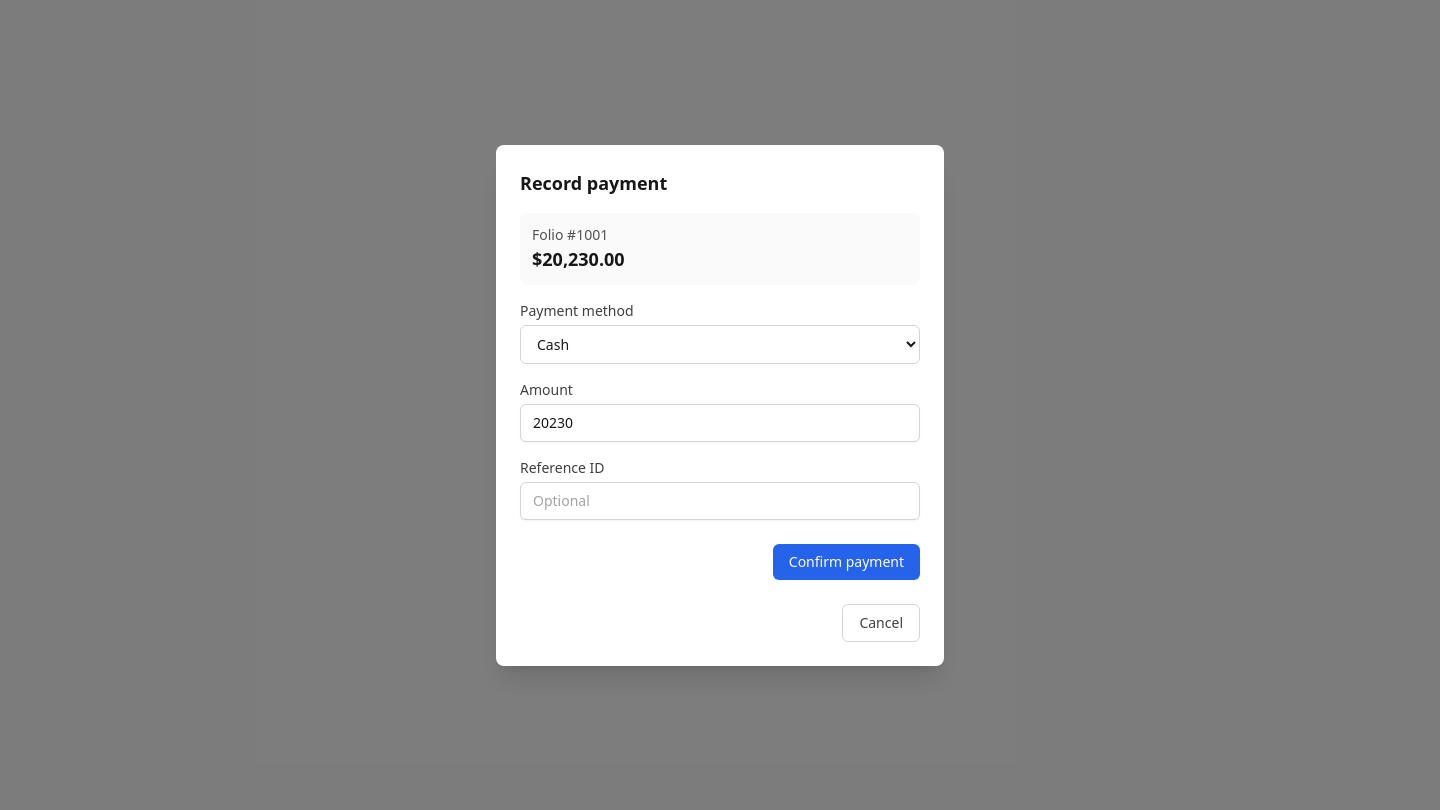
Scenario: PaymentModal › shows validation error when amount is missing
This screenshot has width=1440, height=810.
Clear the number field labelled "Amount" at (720, 422), box [520,404,920,442]
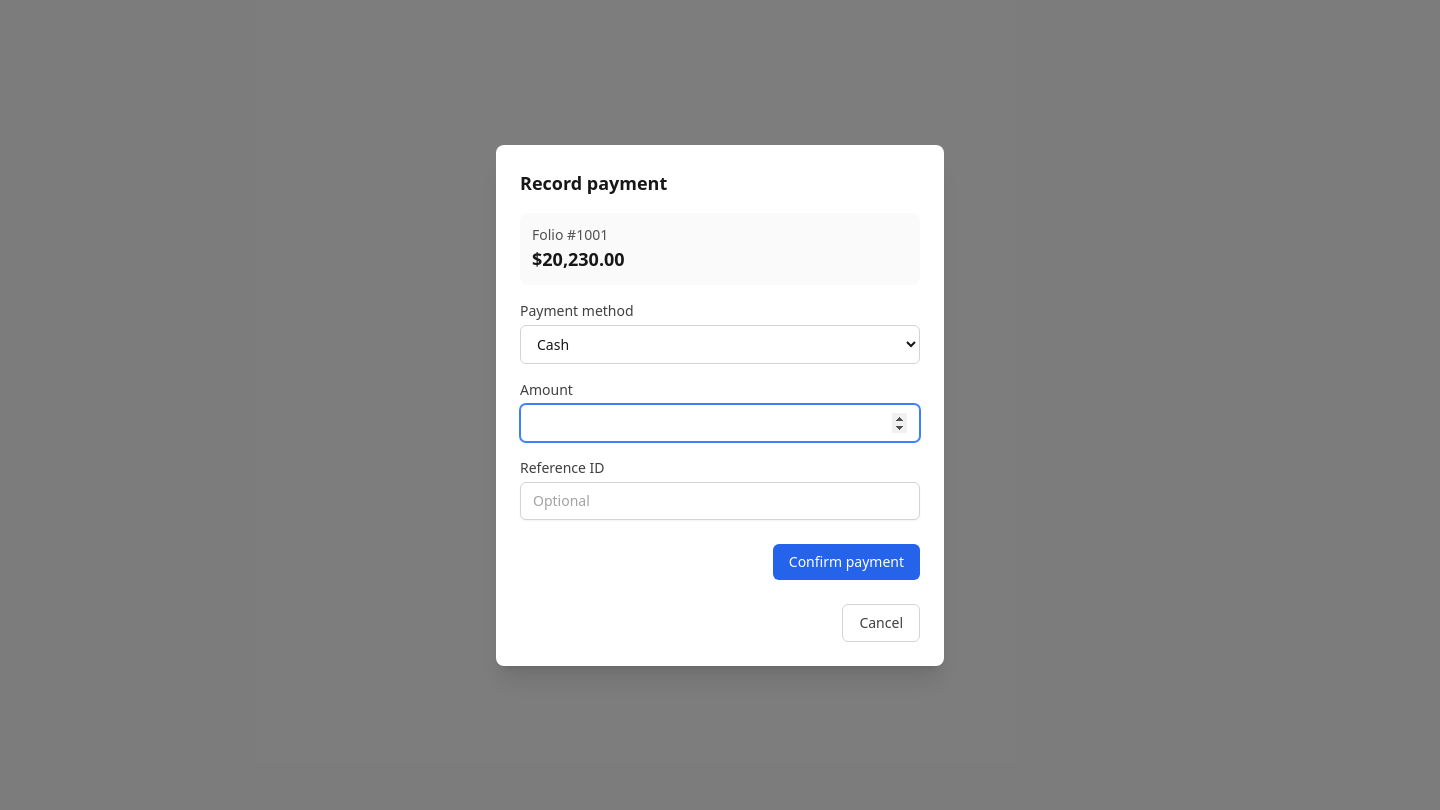
Click the button "Confirm payment".
click(846, 562)  # box [773,544,920,580]
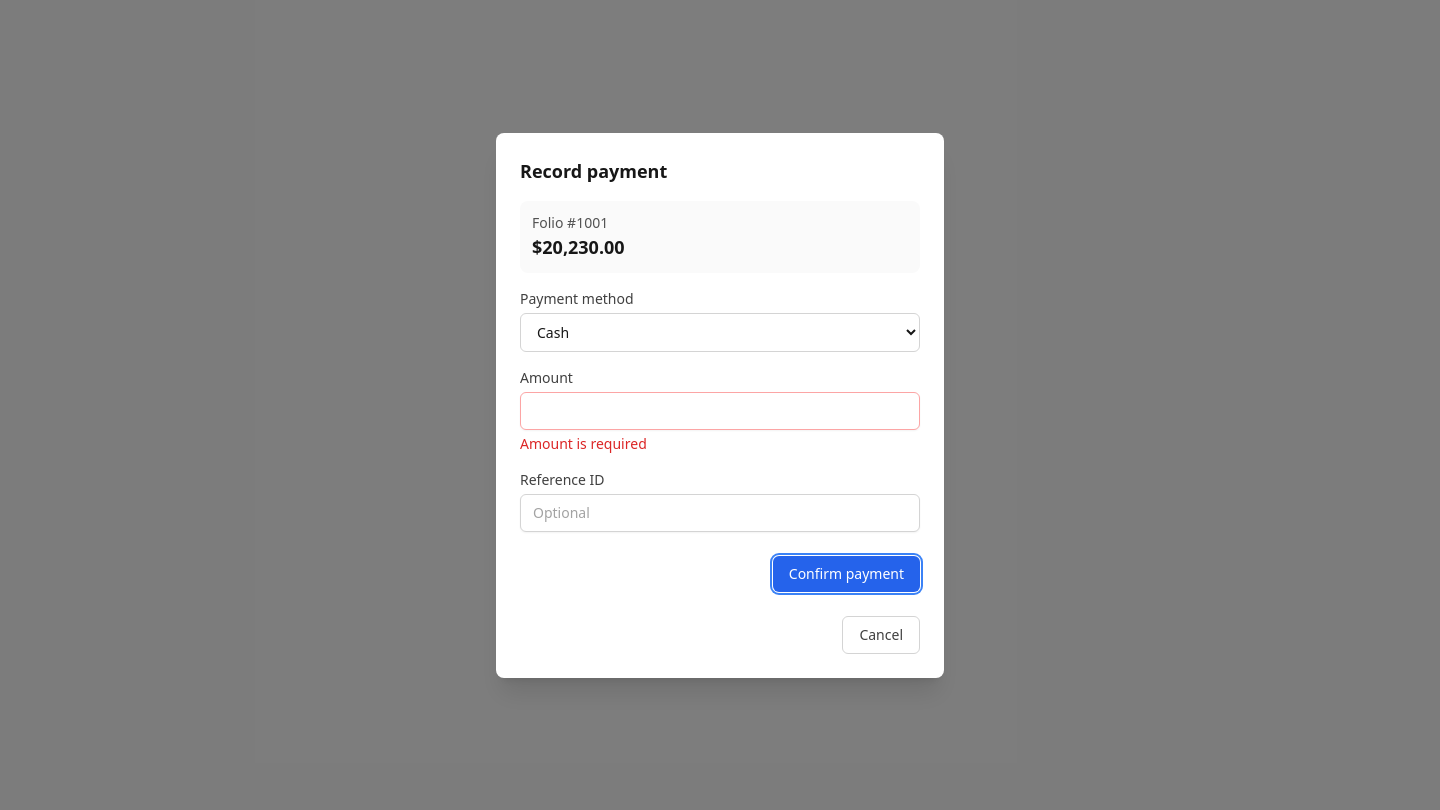
Expected: the text "Amount is required" is shown, [520,434,647,452]
